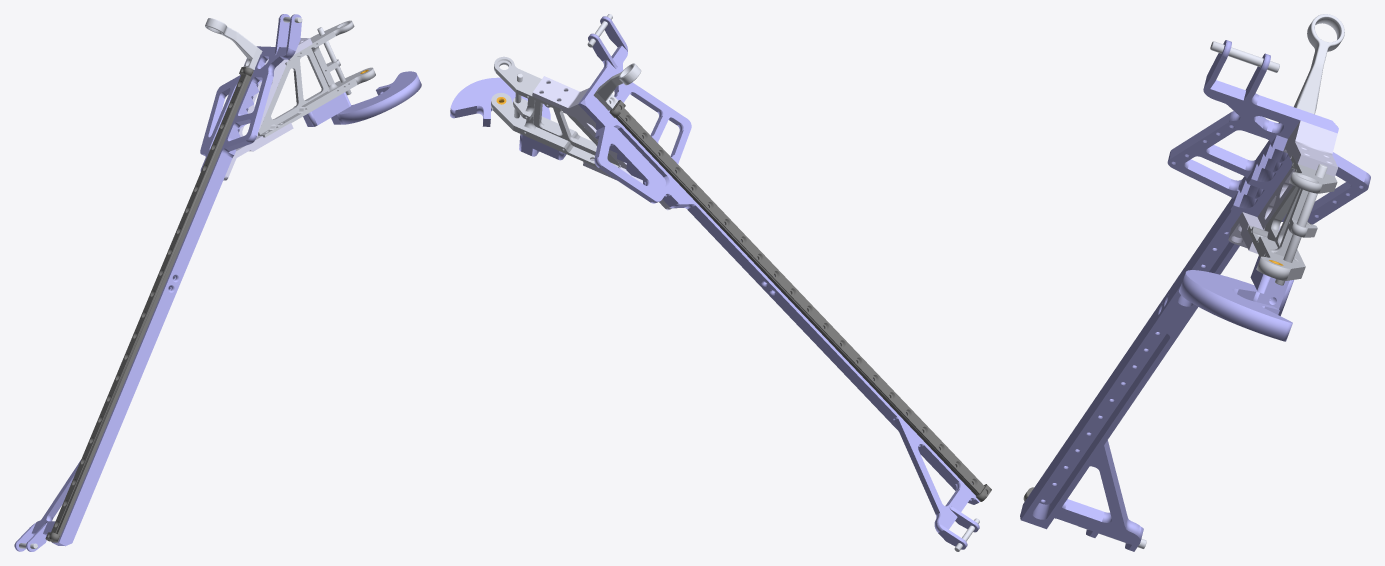
Rendered from link2_blender.dae.
3 renders of one model, left to right at view 1: azimuth 30°, elevation 25°; view 2: azimuth 150°, elevation 25°; view 3: azimuth 270°, elevation 25°, orthographic. The views are drawn at different scales.
Parts seen in each view (by area): view 1: Actor0, Actor5, Actor6, Actor1, Actor3, Actor4, Actor9; view 2: Actor0, Actor5, Actor6, Actor1, Actor3, Actor4, Actor9; view 3: Actor0, Actor6, Actor3, Actor1, Actor4, Actor9, Actor8, Actor2.
Part boxes in pixels (x1=…): Actor0: x1=162, y1=14, x2=301, y2=296; Actor5: x1=45, y1=67, x2=253, y2=542; Actor6: x1=14, y1=276, x2=175, y2=551; Actor1: x1=258, y1=20, x2=375, y2=137; Actor3: x1=303, y1=71, x2=421, y2=126; Actor4: x1=223, y1=38, x2=312, y2=180; Actor9: x1=205, y1=18, x2=262, y2=69; Actor0: x1=578, y1=16, x2=782, y2=298; Actor5: x1=609, y1=100, x2=991, y2=501; Actor6: x1=765, y1=282, x2=979, y2=549; Actor1: x1=491, y1=56, x2=620, y2=167; Actor3: x1=450, y1=77, x2=566, y2=160; Actor4: x1=532, y1=76, x2=672, y2=210; Actor9: x1=593, y1=63, x2=641, y2=110; Actor0: x1=1155, y1=40, x2=1370, y2=331; Actor6: x1=1020, y1=304, x2=1186, y2=551; Actor3: x1=1179, y1=255, x2=1293, y2=341; Actor1: x1=1247, y1=155, x2=1337, y2=280; Actor4: x1=1228, y1=120, x2=1338, y2=253; Actor9: x1=1294, y1=14, x2=1344, y2=114; Actor8: x1=1275, y1=164, x2=1327, y2=285; Actor2: x1=1210, y1=41, x2=1279, y2=72.
Size of the model in its own units: 0.4382 by 0.1762 by 0.4229.
